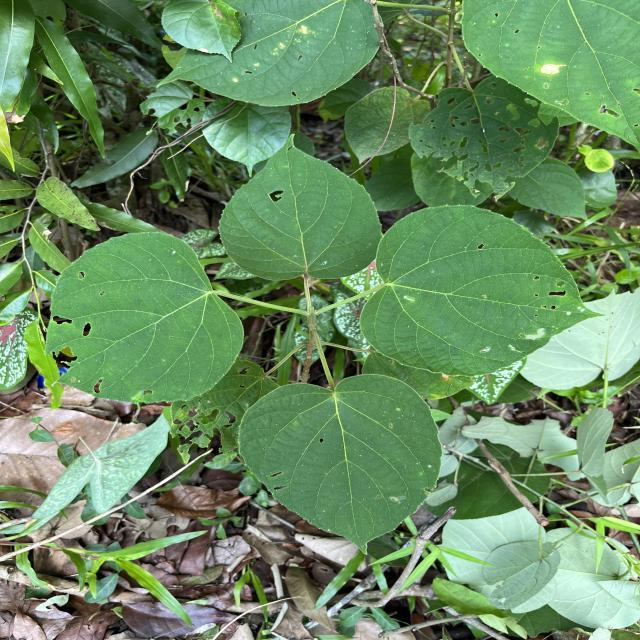Clerodendrum infortunatum: (356, 200, 612, 380), (238, 370, 448, 558), (42, 228, 248, 404), (216, 130, 384, 282)
